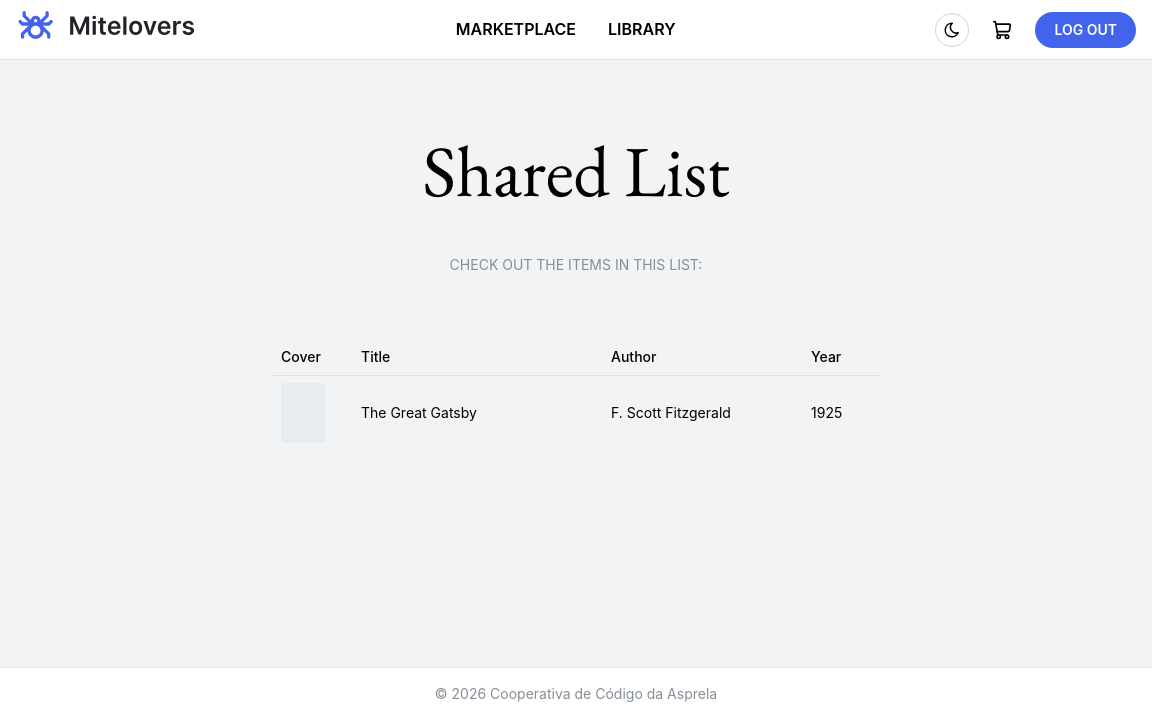
Scenario: ListItemsPage › opens the item detail modal when a row is clicked
Click the text "The Great Gatsby".
click(476, 413)  # box [351,376,601,450]
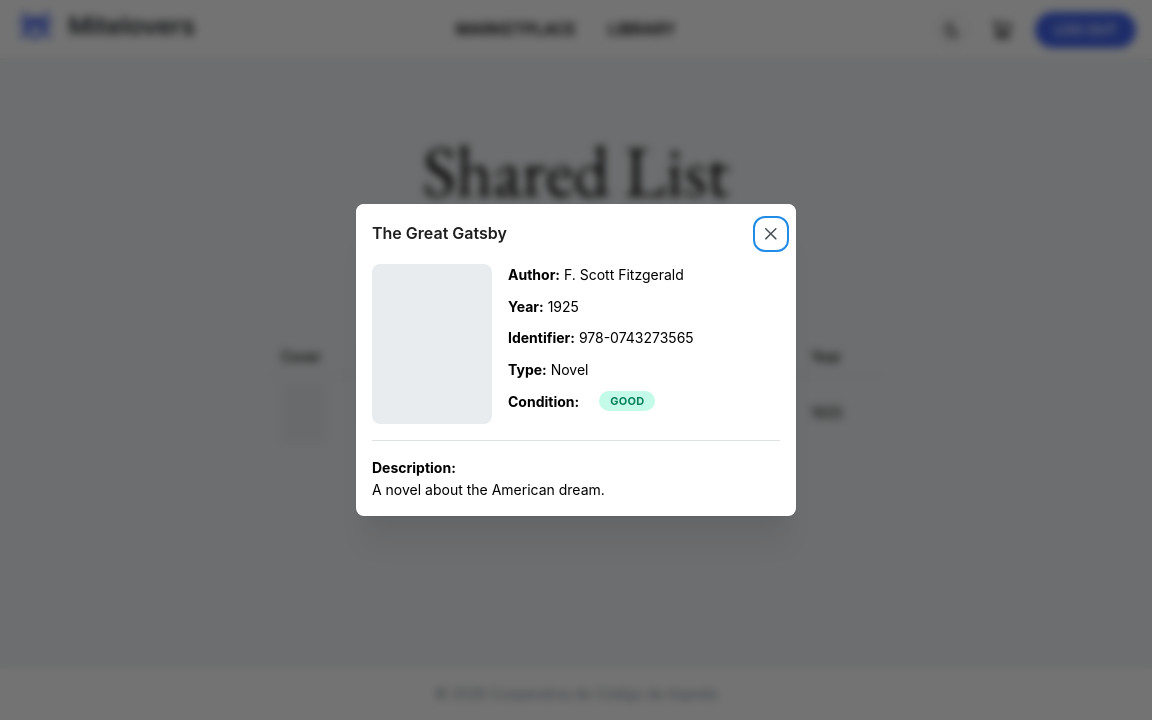
Expected: the text "Description:A novel about the American dream." is shown, [372,459,605,498]
